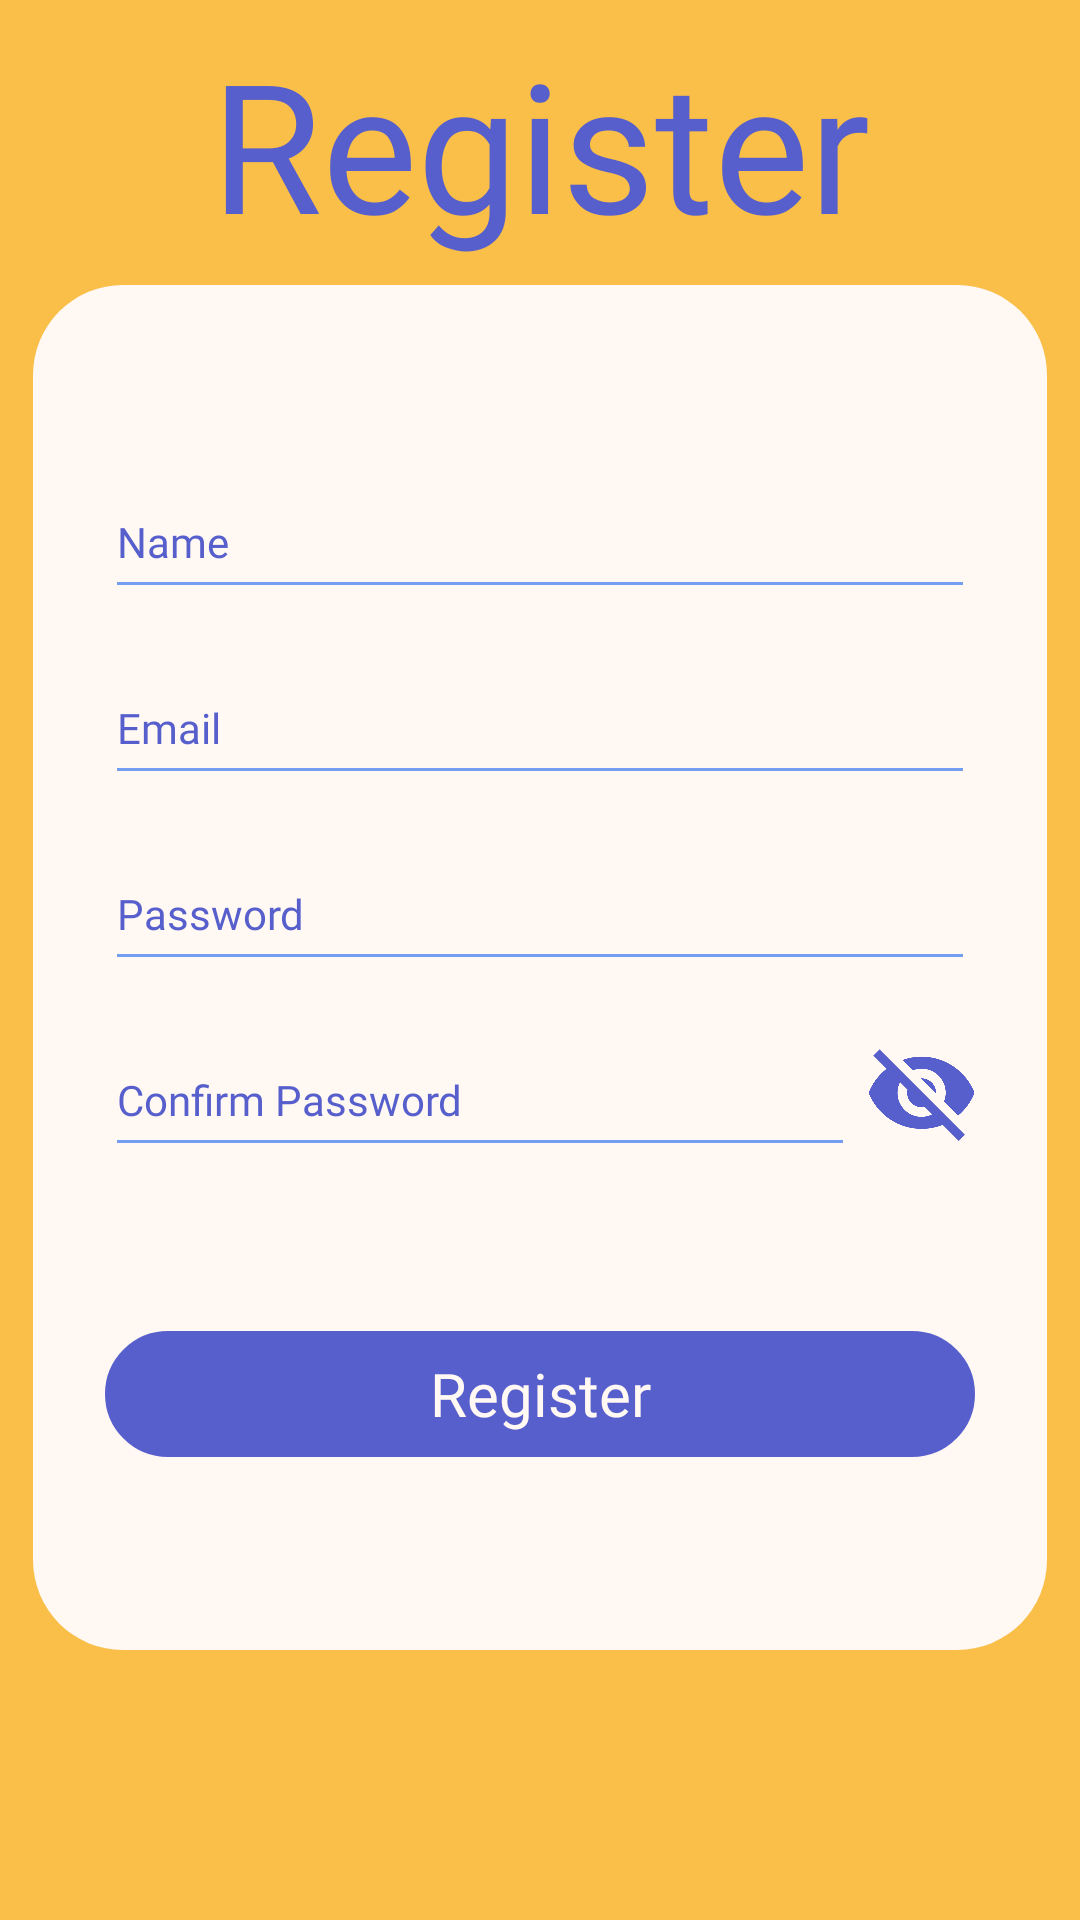

Screen size 1080px×1920px. Icon name, then its box in pixels as {"left": x1, "top": y1, "right": x2, "bottom": y2}:
invisible: {"left": 869, "top": 1049, "right": 974, "bottom": 1141}
